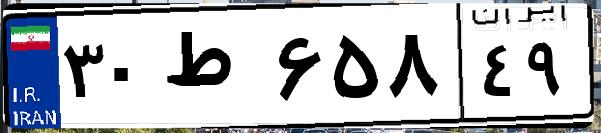0: (110, 28, 158, 98)
3: (57, 26, 110, 100)
4: (475, 38, 525, 113)
5: (330, 28, 385, 110)
6: (270, 28, 330, 110)
8: (385, 28, 445, 110)
9: (525, 38, 570, 115)
ط: (158, 20, 270, 120)
